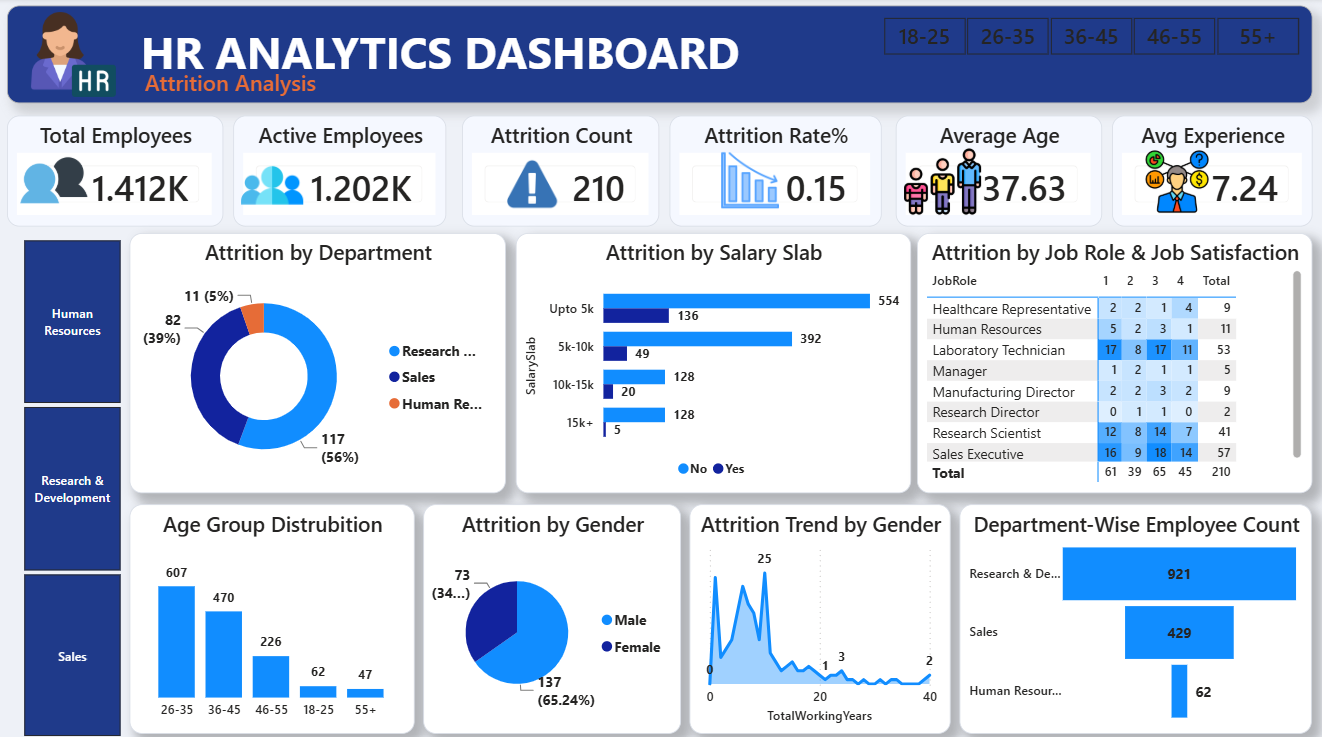

What the dashboard file says about the page in this screenshot:
{"tool":"powerbi","page":{"name":"Attrition Analysis","canvas":[1280,720],"ordinal":0},"visuals":[{"type":"textbox","box":[9.6,6.9,1259.7,94.7],"z":0},{"type":"image","box":[18.8,12.5,108.8,85],"z":1000},{"type":"cardVisual","title":"Total Employees","fields":{"Data":["CountNonNull(HR_Analytics.EmpID)"]},"box":[9.6,113.9,208.6,107],"z":2000},{"type":"cardVisual","title":"Active Employees","fields":{"Data":["CountNonNull(HR_Analytics.EmployeeCount)"]},"box":[227.8,113.9,205.8,107],"z":3000},{"type":"cardVisual","title":"Attrition Count","fields":{"Data":["Sum(HR_Analytics.AttritionCount)"]},"box":[448.7,113.9,190.7,107],"z":4000},{"type":"cardVisual","title":"Average Age","fields":{"Data":["Avg(HR_Analytics.Age)"]},"box":[867.2,113.9,199,107],"z":5000},{"type":"cardVisual","title":"Attrition Rate%","fields":{"Data":["Dax-lar.Attrition Rate% 2"]},"box":[649.1,113.9,204.5,107],"z":6000},{"type":"cardVisual","title":"Avg Experience","fields":{"Data":["Avg(HR_Analytics.YearsAtCompany)"]},"box":[1075.8,113.9,193.5,107],"z":7000},{"type":"image","box":[9.7,143.6,90.5,65.1],"z":8000},{"type":"image","box":[219.6,150.8,91.7,60.3],"z":9000},{"type":"image","box":[466.9,150.8,98.9,57.9],"z":10000},{"type":"image","box":[867.2,140,90.6,74.1],"z":11000},{"type":"image","box":[680.4,147.2,92.9,57.9],"z":12000},{"type":"image","box":[1076.1,143.6,125.5,67.6],"z":13000},{"type":"donutChart","title":"Attrition by Department","fields":{"Category":["HR_Analytics.Department"],"Y":["Sum(HR_Analytics.AttritionCount)"]},"box":[127.9,226.8,363.1,250.9],"z":14000},{"type":"clusteredBarChart","title":"Attrition by Salary Slab","fields":{"Category":["HR_Analytics.SalarySlab"],"Y":["CountNonNull(HR_Analytics.EmpID)"],"Series":["HR_Analytics.Attrition"]},"box":[500.7,226.8,381.2,250.9],"z":15000},{"type":"pivotTable","title":"Attrition by Job Role & Job Satisfaction","fields":{"Rows":["HR_Analytics.JobRole"],"Columns":["HR_Analytics.JobSatisfaction"],"Values":["Sum(HR_Analytics.AttritionCount)"]},"box":[887.8,226.4,381.5,251.1],"z":16000},{"type":"columnChart","title":"Age Group Distrubition ","fields":{"Category":["HR_Analytics.AgeGroup"],"Y":["Sum(HR_Analytics.EmployeeCount)"]},"box":[127.9,488.6,275.1,222],"z":17000},{"type":"pieChart","title":"Attrition by Gender","fields":{"Category":["HR_Analytics.Gender"],"Y":["Sum(HR_Analytics.AttritionCount)"]},"box":[411.4,488.6,248.5,222],"z":18000},{"type":"areaChart","title":"Attrition Trend by Gender","fields":{"Category":["HR_Analytics.TotalWorkingYears"],"Y2":["Sum(HR_Analytics.AttritionCount)"]},"box":[668.4,488.6,252.1,222],"z":19000},{"type":"funnel","title":"Department-Wise Employee Count","fields":{"Category":["HR_Analytics.Department"],"Y":["CountNonNull(HR_Analytics.EmpID)"]},"box":[929,488.6,340.2,222],"z":20000},{"type":"slicer","fields":{"Values":["HR_Analytics.Department"]},"box":[0,226.8,143.6,493.4],"z":21000},{"type":"slicer","fields":{"Values":["HR_Analytics.AgeGroup"]},"box":[830.2,12.3,450.1,48],"z":22000},{"type":"textbox","box":[137,61.5,191,41],"z":23000}]}

Visuals, with their boxes in screenshot pixels (x1, y1, x2, y2), scaled from the page's 1280x720 canvas onto the 1322x737 screenshot:
textbox: <box>10,7,1311,104</box>
image: <box>19,13,132,100</box>
"Total Employees" cardVisual: <box>10,117,225,226</box>
"Active Employees" cardVisual: <box>235,117,448,226</box>
"Attrition Count" cardVisual: <box>463,117,660,226</box>
"Average Age" cardVisual: <box>896,117,1101,226</box>
"Attrition Rate%" cardVisual: <box>670,117,882,226</box>
"Avg Experience" cardVisual: <box>1111,117,1311,226</box>
image: <box>10,147,103,214</box>
image: <box>227,154,322,216</box>
image: <box>482,154,584,214</box>
image: <box>896,143,989,219</box>
image: <box>703,151,799,210</box>
image: <box>1111,147,1241,216</box>
"Attrition by Department" donutChart: <box>132,232,507,489</box>
"Attrition by Salary Slab" clusteredBarChart: <box>517,232,911,489</box>
"Attrition by Job Role & Job Satisfaction" pivotTable: <box>917,232,1311,489</box>
"Age Group Distrubition " columnChart: <box>132,500,416,727</box>
"Attrition by Gender" pieChart: <box>425,500,682,727</box>
"Attrition Trend by Gender" areaChart: <box>690,500,951,727</box>
"Department-Wise Employee Count" funnel: <box>959,500,1311,727</box>
slicer - HR_Analytics.Department: <box>0,232,148,736</box>
slicer - HR_Analytics.AgeGroup: <box>857,13,1321,62</box>
textbox: <box>141,63,339,105</box>
